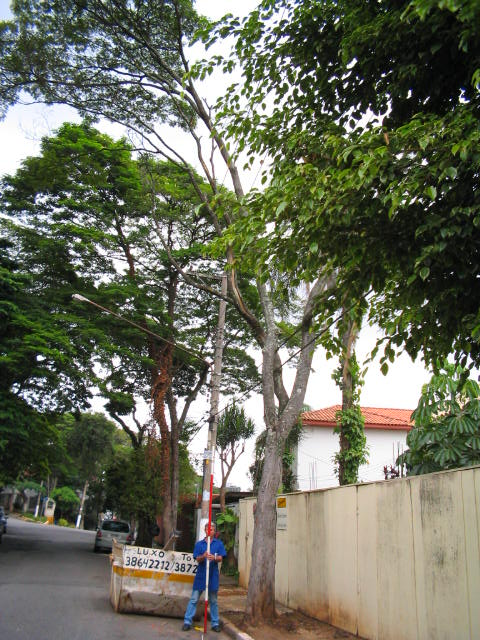crown: (3, 1, 450, 205), (4, 120, 255, 274)
stem: (242, 426, 292, 623), (155, 433, 187, 548)
stick: (199, 473, 217, 633)
tree: (3, 1, 450, 625), (4, 119, 258, 550)
